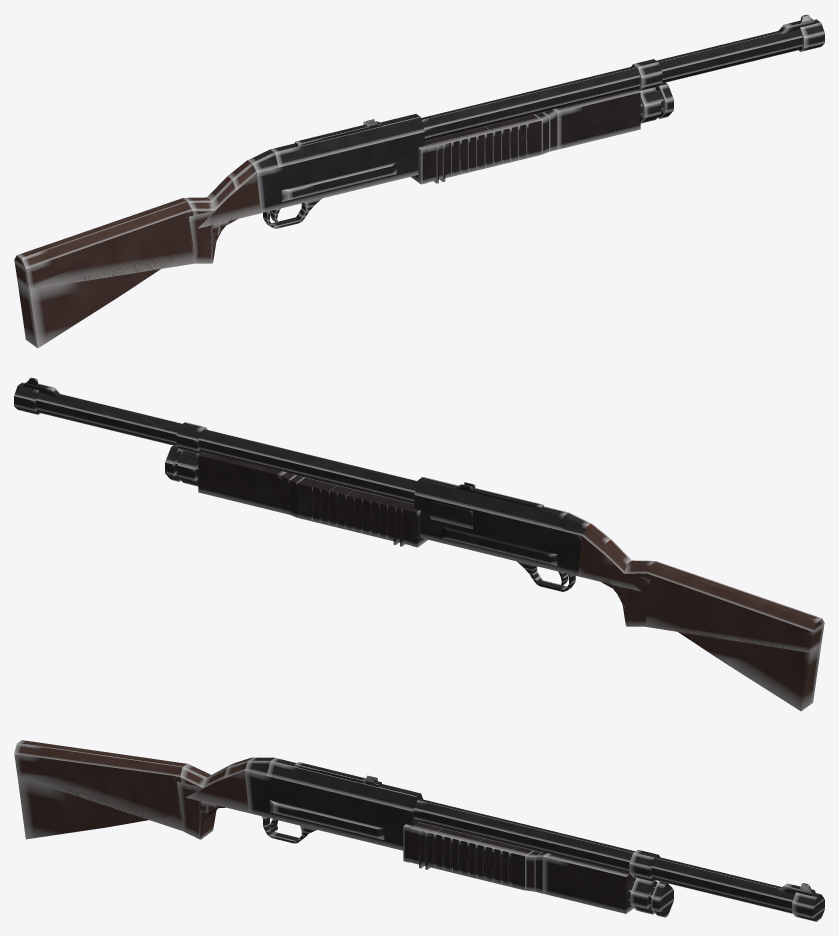
The picture shows the model from 3 angles, top to bottom: view 1: azimuth 30°, elevation 25°; view 2: azimuth 150°, elevation 25°; view 3: azimuth 330°, elevation 25°; orthographic projection.
Parts seen in each view (by area): view 1: gunModel43, gunModel0, gunModel44, gunModel18, pumpModel3, pumpModel0, gunModel17, gunModel46, gunModel2, gunModel23, gunModel40, gunModel19 (+1 smaller); view 2: gunModel43, gunModel44, gunModel0, gunModel18, pumpModel3, pumpModel0, gunModel17, gunModel46, gunModel2, gunModel24, gunModel40, gunModel19 (+2 smaller); view 3: gunModel43, gunModel0, gunModel18, gunModel44, pumpModel3, pumpModel0, gunModel17, gunModel2, gunModel46, gunModel23, gunModel40, gunModel19 (+9 smaller).
Part boxes in pixels (x1,y1,x2,y2): gunModel43: [14, 212, 196, 289]; gunModel0: [257, 132, 424, 213]; gunModel44: [17, 252, 182, 348]; gunModel18: [421, 29, 802, 129]; pumpModel3: [411, 115, 541, 183]; pumpModel0: [552, 89, 640, 149]; gunModel17: [424, 37, 802, 138]; gunModel46: [14, 198, 191, 268]; gunModel2: [270, 114, 424, 167]; gunModel23: [281, 162, 396, 201]; gunModel40: [198, 173, 260, 228]; gunModel19: [424, 46, 802, 141]; gunModel43: [644, 575, 824, 652]; gunModel44: [660, 620, 821, 711]; gunModel0: [414, 495, 581, 576]; gunModel18: [36, 392, 417, 492]; pumpModel3: [297, 478, 427, 546]; pumpModel0: [198, 452, 286, 512]; gunModel17: [36, 400, 414, 501]; gunModel46: [647, 561, 824, 631]; gunModel2: [414, 477, 568, 530]; gunModel24: [442, 526, 557, 566]; gunModel40: [578, 536, 640, 591]; gunModel19: [36, 409, 414, 504]; gunModel43: [14, 754, 184, 831]; gunModel0: [245, 771, 417, 850]; gunModel18: [414, 799, 794, 901]; gunModel44: [17, 777, 175, 839]; pumpModel3: [410, 822, 532, 890]; pumpModel0: [542, 853, 635, 913]; gunModel17: [413, 809, 792, 910]; gunModel2: [266, 758, 423, 811]; gunModel46: [14, 740, 186, 776]; gunModel23: [269, 800, 384, 839]; gunModel40: [186, 771, 248, 812]; gunModel19: [414, 818, 792, 913].
Size of the model in its own units: 38.35 by 6.4 by 1.5.
